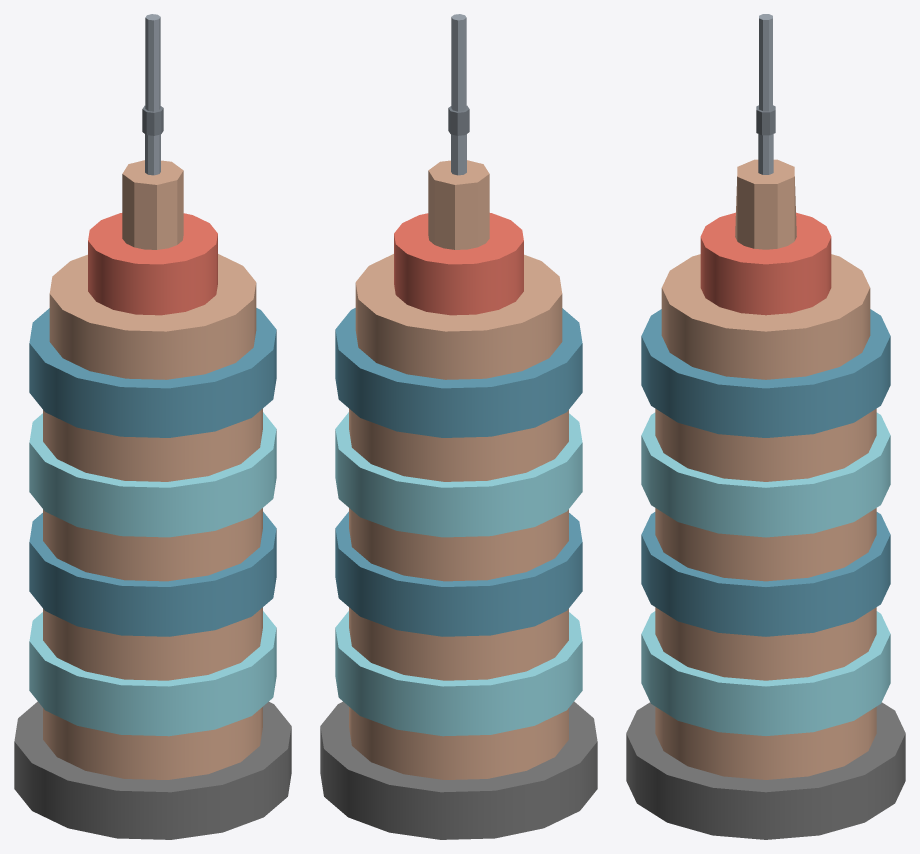
Rendered from BigHouse 3.1.fbx.
The picture shows the model from 3 angles, left to right: view 1: azimuth 30°, elevation 25°; view 2: azimuth 150°, elevation 25°; view 3: azimuth 270°, elevation 25°; orthographic projection.
Visible parts, largest first — view 1: BigHouse_Type3_1; view 2: BigHouse_Type3_1; view 3: BigHouse_Type3_1.
Part boxes in pixels (x1,y1,x2,y2): BigHouse_Type3_1: [14, 14, 291, 839]; BigHouse_Type3_1: [320, 14, 597, 839]; BigHouse_Type3_1: [626, 14, 905, 839].
Size of the model in its own units: 533 by 1608 by 533.
